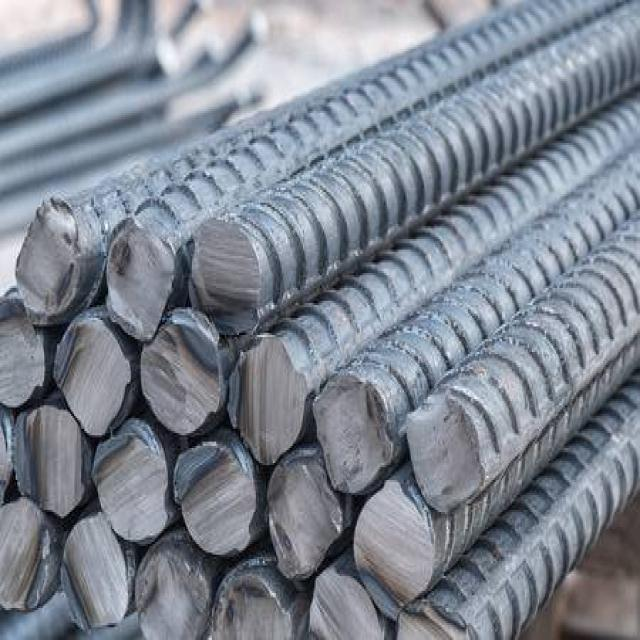Rebar: (358, 474, 450, 606), (133, 305, 229, 428), (314, 369, 407, 493), (11, 195, 107, 315), (92, 417, 181, 537), (187, 207, 271, 331), (173, 433, 255, 560), (229, 338, 312, 460), (407, 391, 488, 513), (53, 315, 140, 428), (14, 412, 104, 518), (270, 448, 346, 573), (64, 513, 140, 628), (109, 218, 173, 343), (136, 545, 216, 639), (1, 493, 58, 621), (211, 562, 300, 640), (304, 566, 391, 640), (1, 285, 49, 403), (402, 605, 482, 640), (1, 389, 24, 505)
